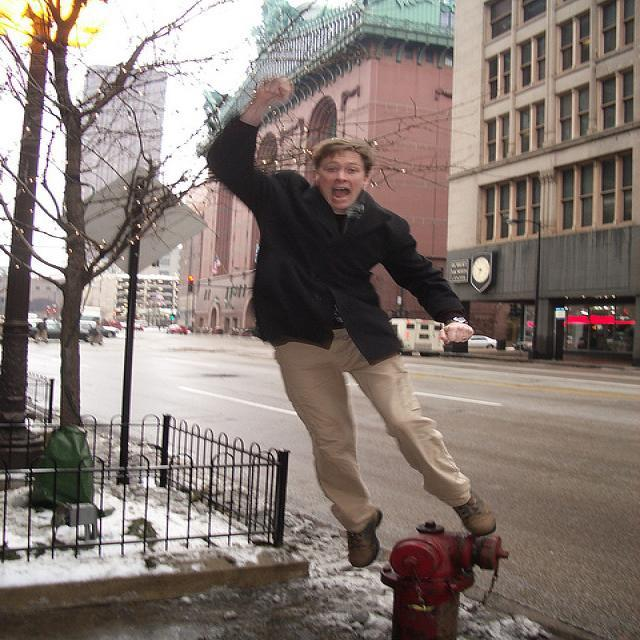fire_hydrant: (374, 514, 516, 637)
